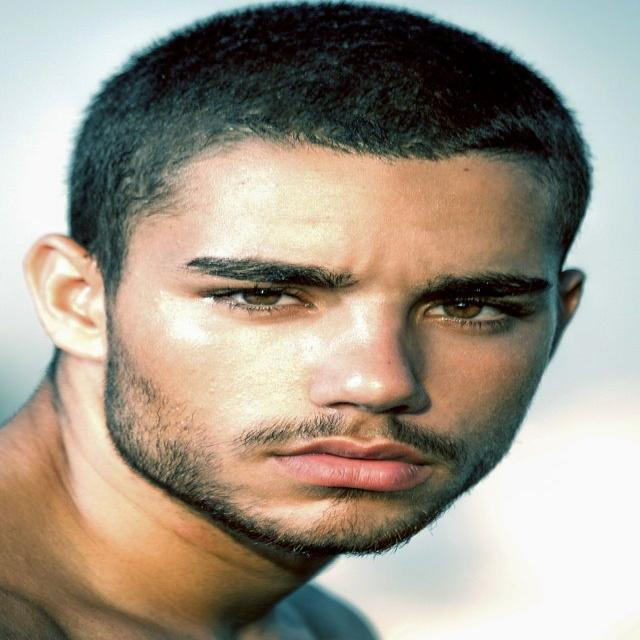front: (142, 192, 578, 538)
